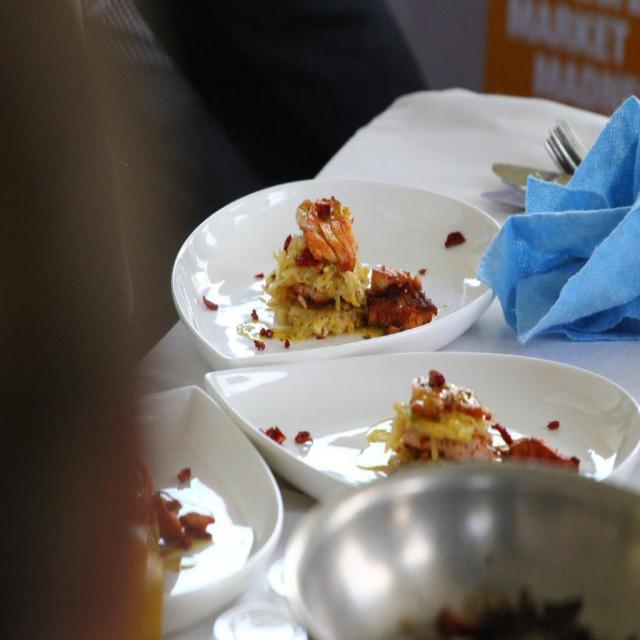non-organic waste: (168, 189, 500, 349)
